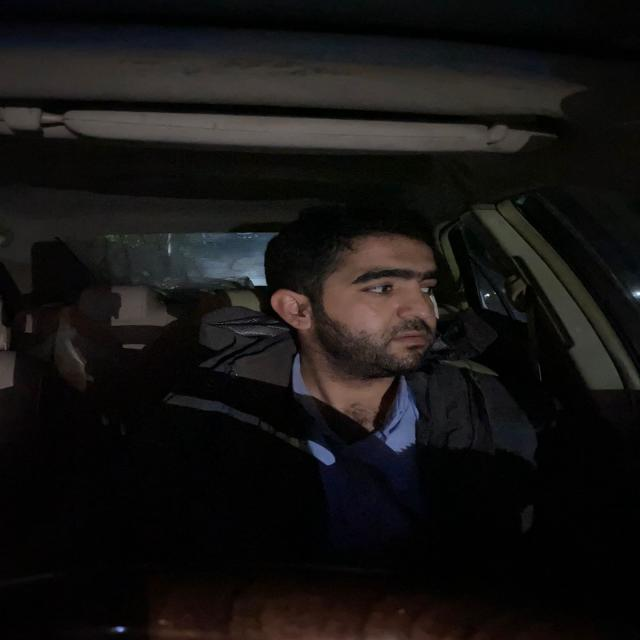person: (263, 194, 462, 378)
